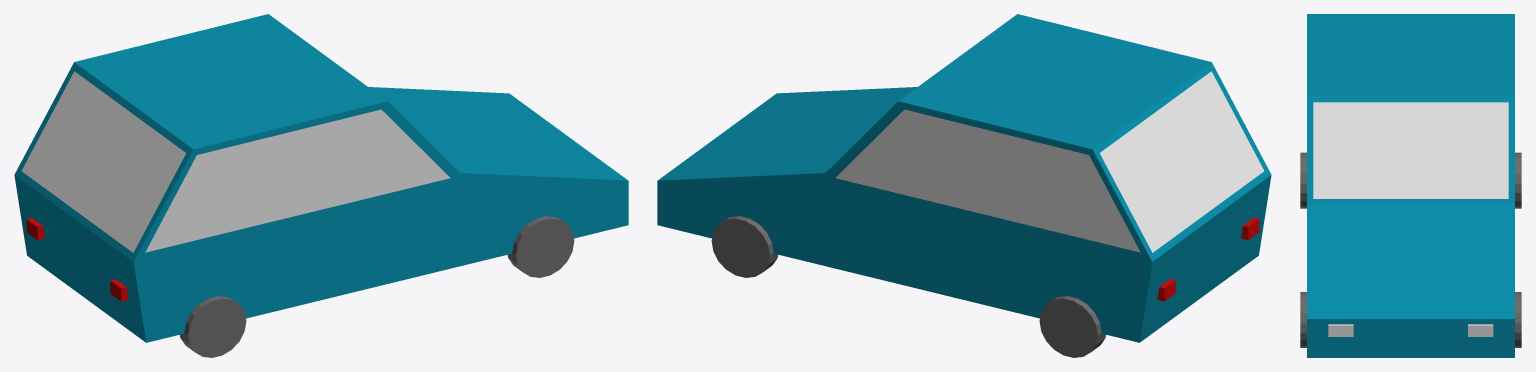
The model's file is Blue Car.fbx.
3 renders of one model, left to right at view 1: azimuth 30°, elevation 25°; view 2: azimuth 150°, elevation 25°; view 3: azimuth 270°, elevation 25°, orthographic. The views are drawn at different scales.
Parts seen in each view (by area): view 1: Car 1; view 2: Car 1; view 3: Car 1.
Boxes of the visible parts, x1,y1,x2,y2 form: Car 1: [14, 14, 628, 357]; Car 1: [657, 14, 1271, 357]; Car 1: [1300, 14, 1521, 357].
Size of the model in its own units: 7900 by 3187 by 3481.
